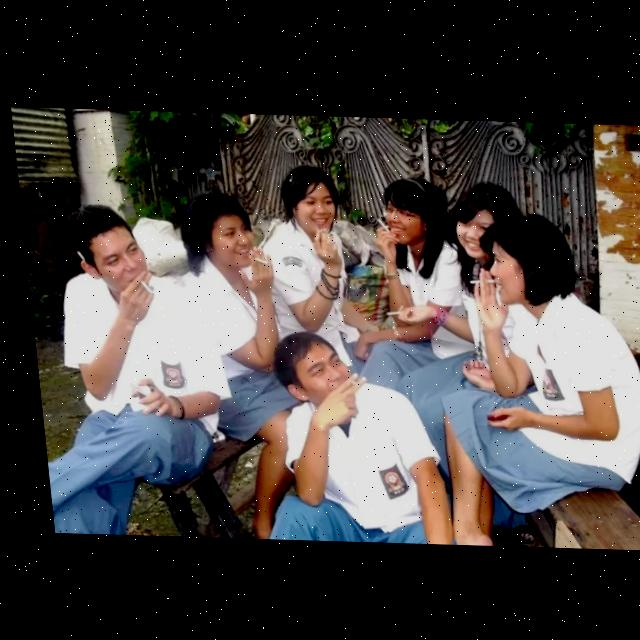cigarette: (135, 281, 148, 295), (243, 254, 262, 263), (372, 216, 384, 229), (465, 276, 489, 281), (380, 310, 394, 313), (343, 380, 348, 384)
